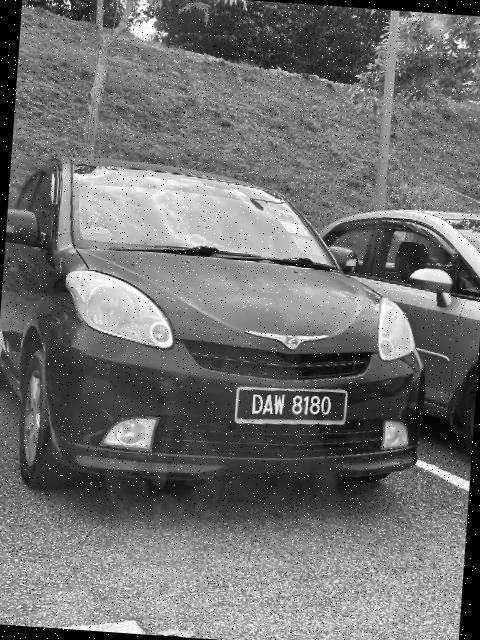DAW8180: (232, 383, 354, 434)
License_Plate: (232, 383, 354, 434)
car: (1, 140, 448, 514)
